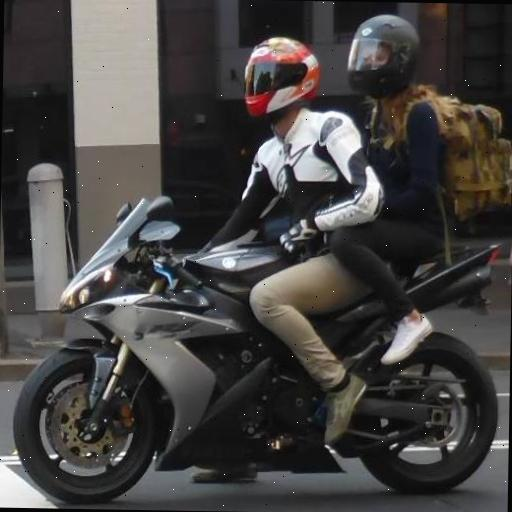helmet: (152, 26, 349, 502)
